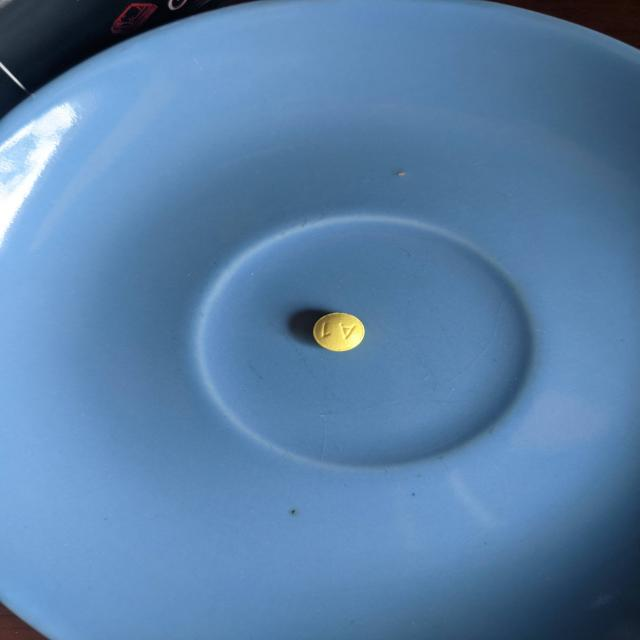non-organic waste: (312, 312, 366, 352)
